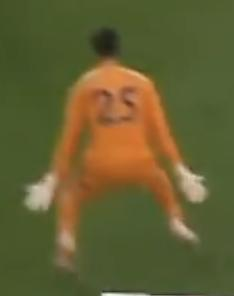goalkeeper: (17, 11, 234, 285)
